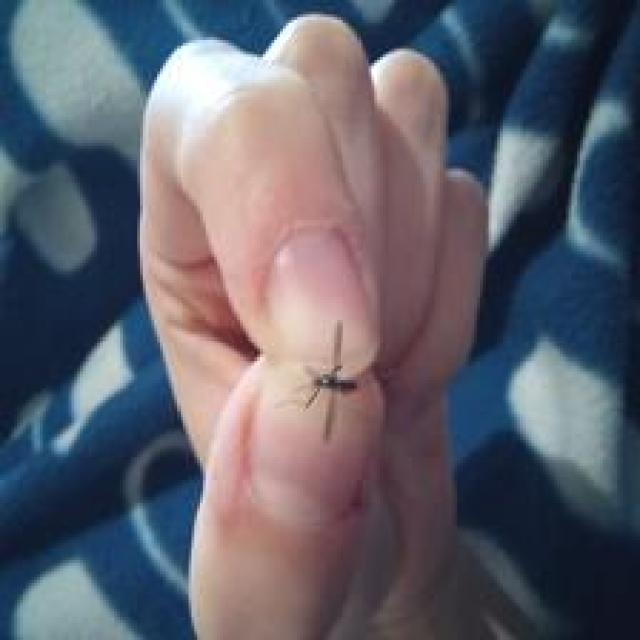Aedes albopictus: (296, 318, 358, 438)
